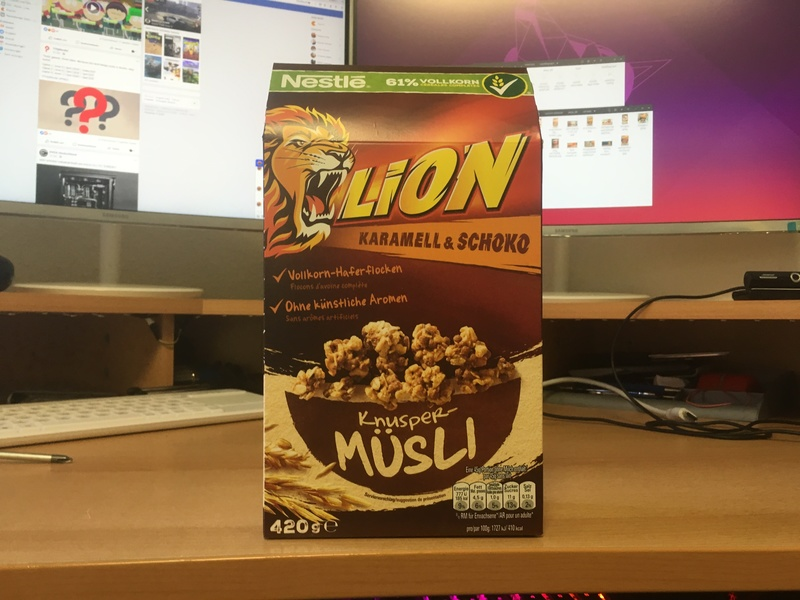cereals: (263, 62, 544, 537)
